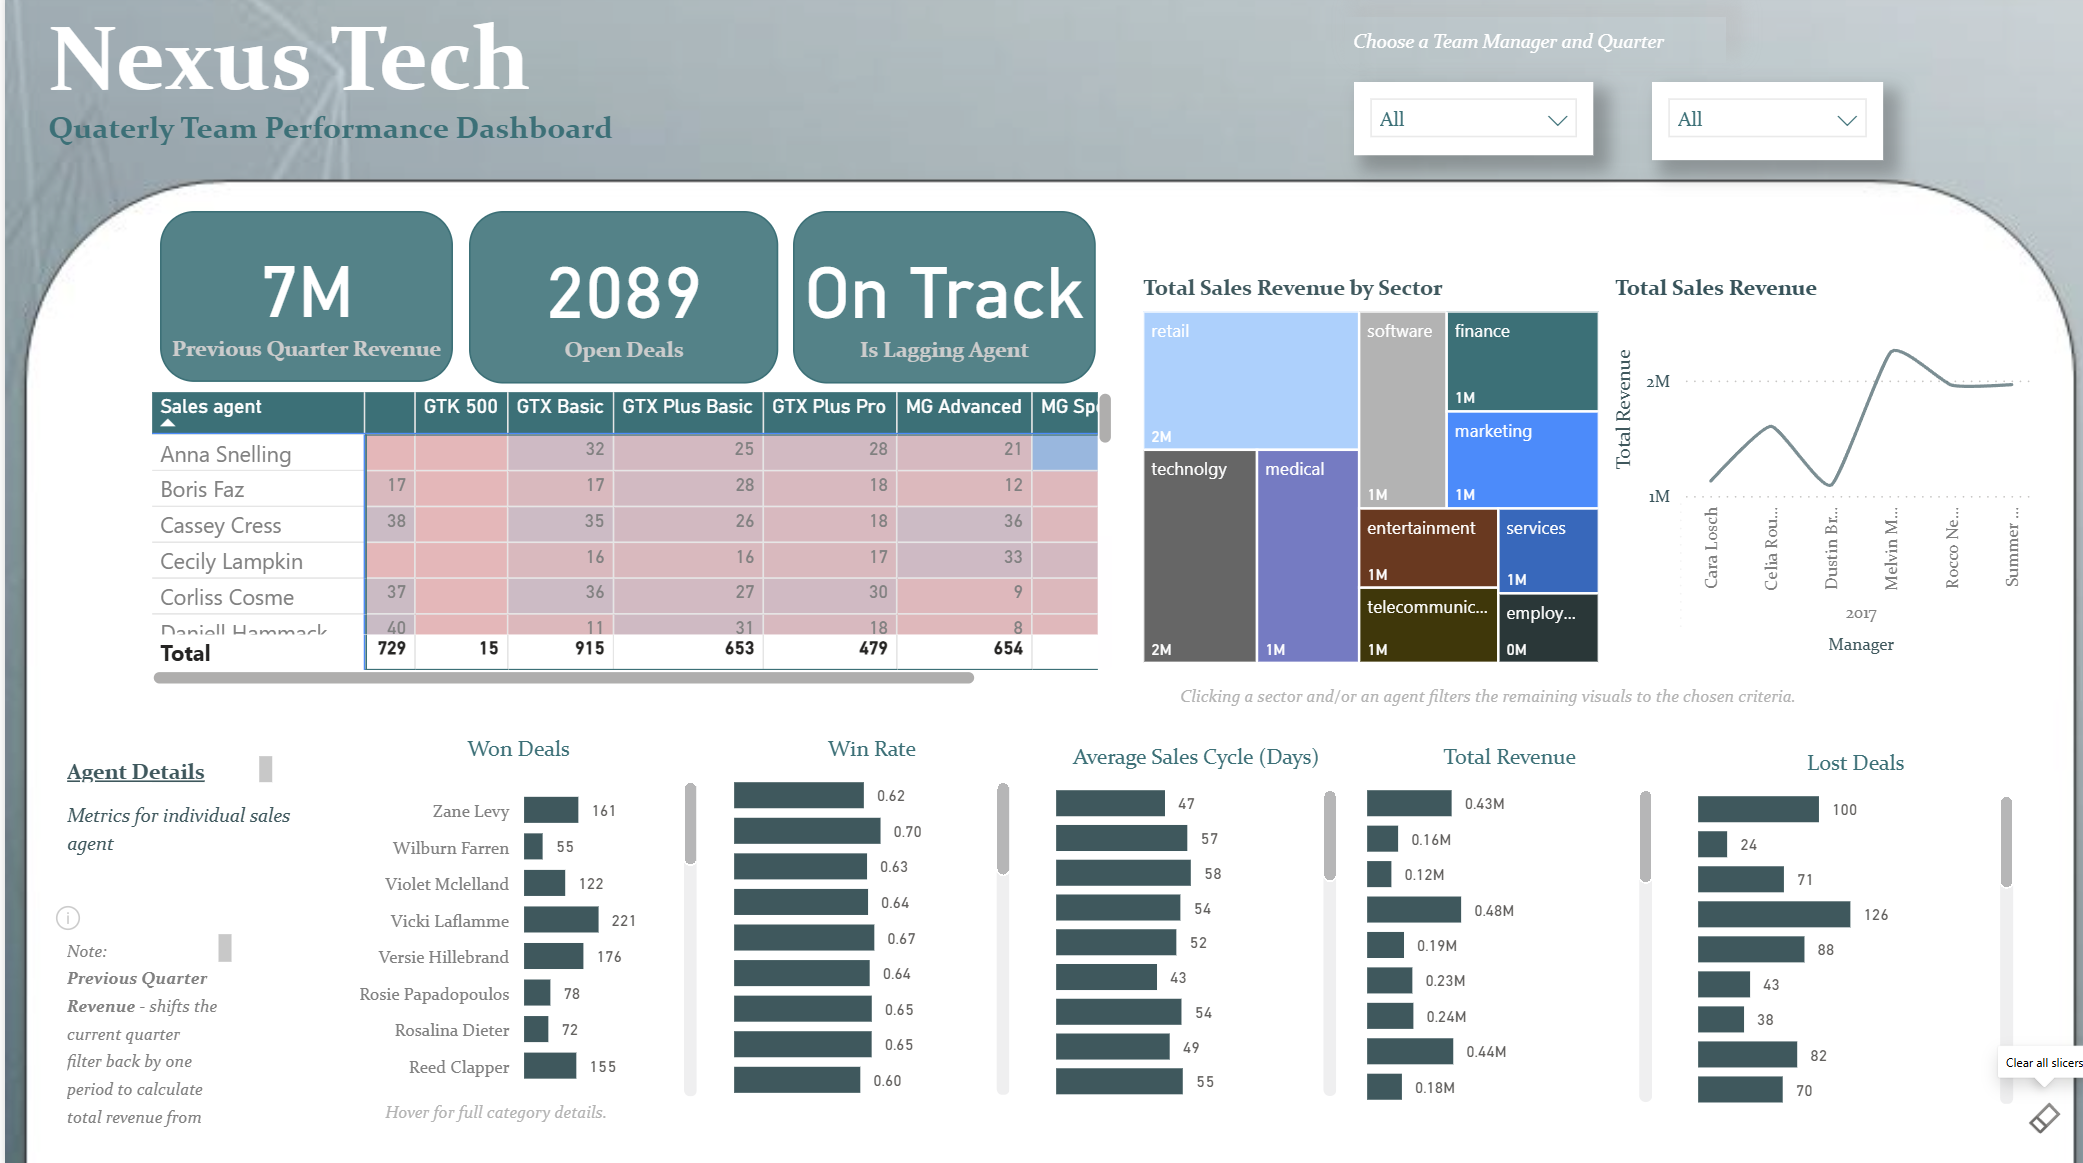

Layout of this report page (visuals, bound fields, positions):
{"tool":"powerbi","page":{"name":"Page 1 - Team Performance ","canvas":[1280,720],"ordinal":1},"visuals":[{"type":"clusteredBarChart","title":"Won Deals ","fields":{"Category":["sales_teams.Sales agent"],"Y":["Measure table.Won Deals"]},"box":[200.6,454.8,229.3,227],"z":0},{"type":"clusteredBarChart","title":"Win Rate ","fields":{"Category":["sales_teams.Sales agent"],"Y":["Measure table.Win Rate"]},"box":[443.1,454.8,179.3,226.3],"z":1000},{"type":"clusteredBarChart","title":"Average Sales Cycle (Days)","fields":{"Category":["sales_teams.Sales agent"],"Y":["Measure table.Avg Sales Cycle (Days)"]},"box":[640.7,459.2,182.2,221.9],"z":2000},{"type":"clusteredBarChart","title":"Total Revenue ","fields":{"Category":["sales_teams.Sales agent"],"Y":["Measure table.Total Revenue"]},"box":[831.8,459.2,185.2,225.6],"z":3000},{"type":"clusteredBarChart","title":"Lost Deals ","fields":{"Category":["sales_teams.Sales agent"],"Y":["Measure table.Lost Deals"]},"box":[1035.3,462.9,203.5,223.4],"z":4000},{"type":"textbox","box":[33.2,462.6,136.4,26.4],"z":5000},{"type":"textbox","box":[33.2,489,148.1,64.5],"z":6000},{"type":"treemap","title":"Total Sales Revenue by Sector","fields":{"Group":["accounts.sector"],"Values":["Measure table.Total Revenue"]},"box":[694.2,171.4,290,243.9],"z":7000},{"type":"slicer","title":"Choose a Team Manager","fields":{"Values":["sales_teams.Manager"]},"box":[828.8,53.6,147,44.8],"z":8000},{"type":"slicer","fields":{"Values":["Calendar.Quarter"]},"box":[1011.8,53.6,141.8,47.8],"z":9000},{"type":"pivotTable","fields":{"Rows":["sales_teams.Sales agent"],"Columns":["products.product"],"Values":["Measure table.Won Deal Count"]},"box":[85.4,239,599.6,190.4],"z":10000},{"type":"card","fields":{"Values":["Measure table.Revenue Prior Quarter"]},"box":[95.2,132.7,180,105.1],"z":11000},{"type":"card","fields":{"Values":["Measure table.Open Deals"]},"box":[285.1,132.7,190.4,106.3],"z":12000},{"type":"textbox","box":[21.5,0,333.1,82.6],"z":13000},{"type":"textbox","box":[21.5,65.3,393.4,34.7],"z":14000},{"type":"textbox","box":[823.1,13.2,233.9,28.1],"z":15000},{"type":"textbox","box":[33.2,571.9,110.6,129.6],"z":16000},{"type":"actionButton","box":[21.3,549.6,44.8,34.5],"z":17000},{"type":"textbox","box":[716.9,415.3,446,60.8],"z":18000},{"type":"textbox","box":[228.5,670.9,173.2,33.2],"z":19000},{"type":"actionButton","box":[1238.9,673.1,27.9,33.1],"z":20000},{"type":"card","fields":{"Values":["Measure table.Is Lagging Agent"]},"box":[484.1,132.7,186.1,106.3],"z":21000},{"type":"lineChart","title":"Total Sales Revenue","fields":{"Y":["Measure Table.Total Revenue"],"Category":["Calendar.Date.Variation.Date Hierarchy.Year","sales_teams.Manager"]},"box":[984.2,171.4,268.5,239],"z":22000}]}

Visuals, with their boxes in screenshot pixels (x1, y1, x2, y2), scaled from the page's 1280x720 canvas onto the 2083x1163 screenshot:
"Won Deals " clusteredBarChart: (x1=326, y1=735, x2=700, y2=1101)
"Win Rate " clusteredBarChart: (x1=721, y1=735, x2=1013, y2=1100)
"Average Sales Cycle (Days)" clusteredBarChart: (x1=1043, y1=742, x2=1339, y2=1100)
"Total Revenue " clusteredBarChart: (x1=1354, y1=742, x2=1655, y2=1106)
"Lost Deals " clusteredBarChart: (x1=1685, y1=748, x2=2016, y2=1109)
textbox: (x1=54, y1=747, x2=276, y2=790)
textbox: (x1=54, y1=790, x2=295, y2=894)
"Total Sales Revenue by Sector" treemap: (x1=1130, y1=277, x2=1602, y2=671)
"Choose a Team Manager" slicer: (x1=1349, y1=87, x2=1588, y2=159)
slicer - Calendar.Quarter: (x1=1647, y1=87, x2=1877, y2=164)
pivotTable - sales_teams.Sales agent x products.product: (x1=139, y1=386, x2=1115, y2=694)
card - Measure table.Revenue Prior Quarter: (x1=155, y1=214, x2=448, y2=384)
card - Measure table.Open Deals: (x1=464, y1=214, x2=774, y2=386)
textbox: (x1=35, y1=0, x2=577, y2=133)
textbox: (x1=35, y1=105, x2=675, y2=162)
textbox: (x1=1339, y1=21, x2=1720, y2=67)
textbox: (x1=54, y1=924, x2=234, y2=1133)
actionButton: (x1=35, y1=888, x2=108, y2=943)
textbox: (x1=1167, y1=671, x2=1892, y2=769)
textbox: (x1=372, y1=1084, x2=654, y2=1137)
actionButton: (x1=2016, y1=1087, x2=2062, y2=1141)
card - Measure table.Is Lagging Agent: (x1=788, y1=214, x2=1091, y2=386)
"Total Sales Revenue" lineChart: (x1=1602, y1=277, x2=2039, y2=663)
